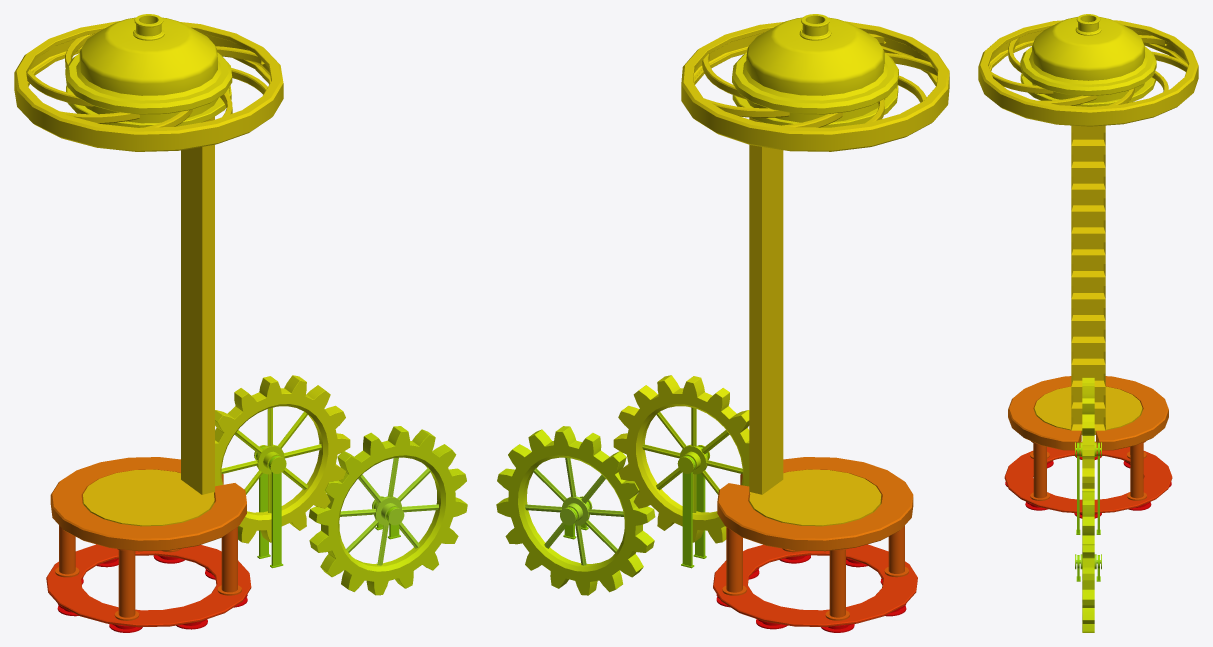
The model's file is Combined Solids.fbx.
The picture shows the model from 3 angles, left to right: view 1: azimuth 30°, elevation 25°; view 2: azimuth 150°, elevation 25°; view 3: azimuth 270°, elevation 25°; orthographic projection. The views are drawn at different scales.
Visible parts, largest first — view 1: SmartCombine_6; view 2: SmartCombine_6; view 3: SmartCombine_6.
Part boxes in pixels (bbox=[...]): SmartCombine_6: bbox=[14, 14, 467, 632]; SmartCombine_6: bbox=[496, 14, 949, 632]; SmartCombine_6: bbox=[978, 14, 1198, 632].
Bounding box in the file's own units: 278 × 386 × 150.
